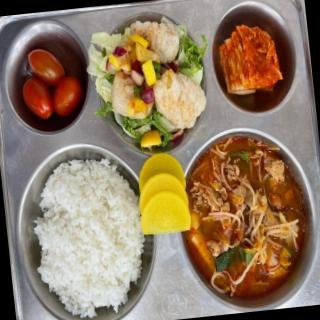Nasi: (29, 154, 148, 320)
